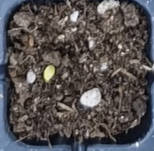chilli seed: (41, 63, 55, 82)
